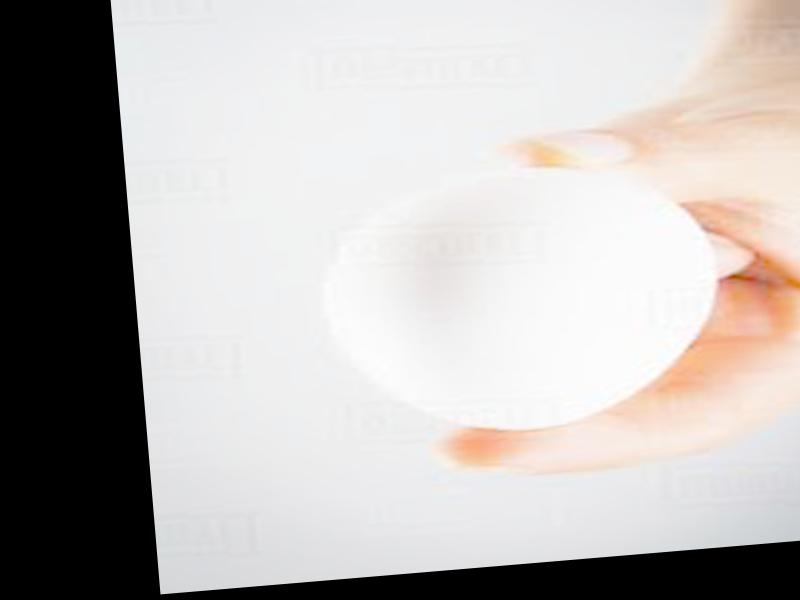Eggs: (319, 155, 711, 447)
